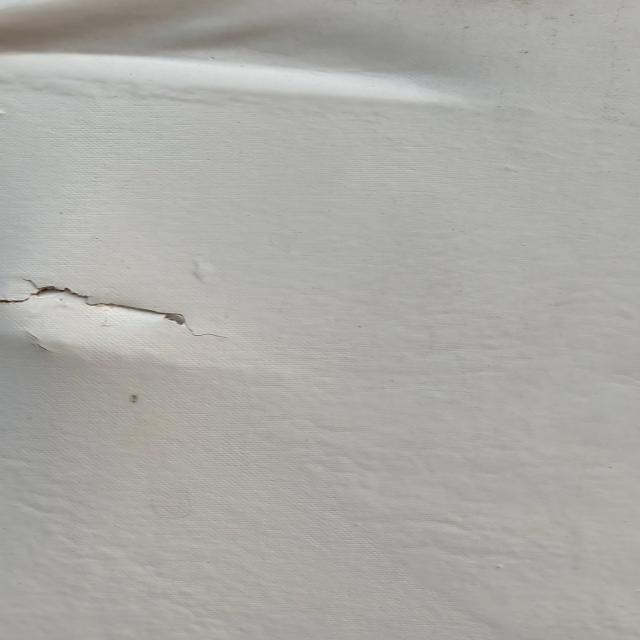Dents or Deformation: (1, 1, 530, 122)
Scratches: (1, 256, 259, 348)
